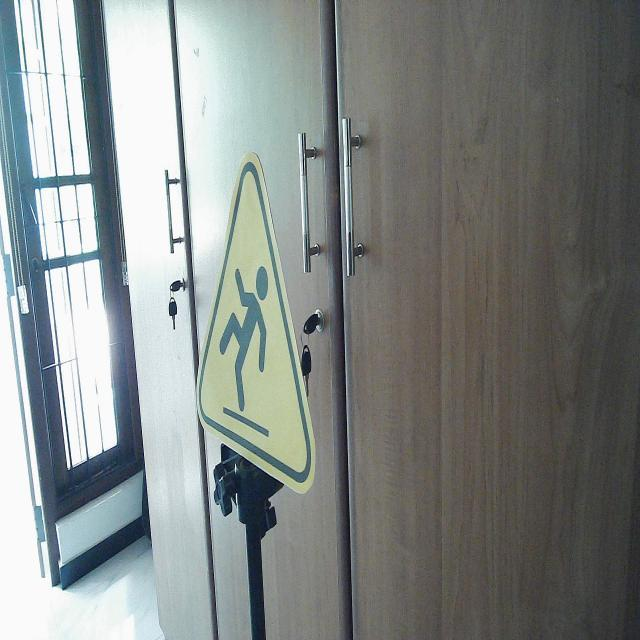slippery_sign: (194, 148, 319, 498)
